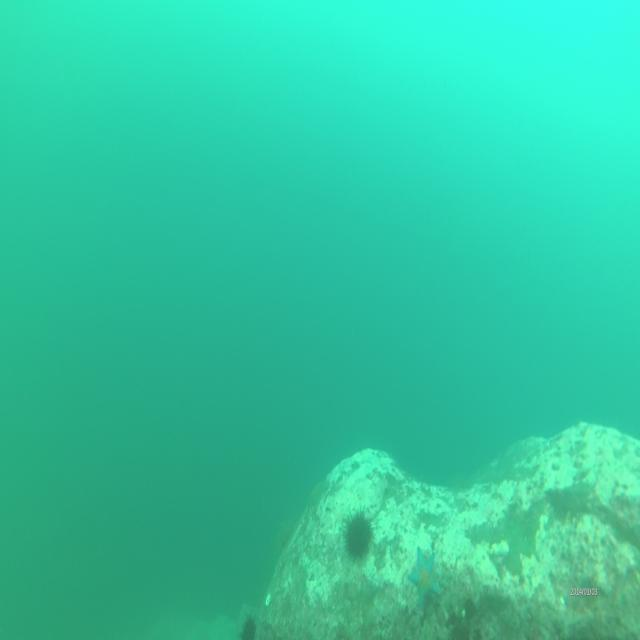echinus: (342, 509, 374, 563), (240, 612, 258, 640)
starfish: (411, 550, 443, 614)
